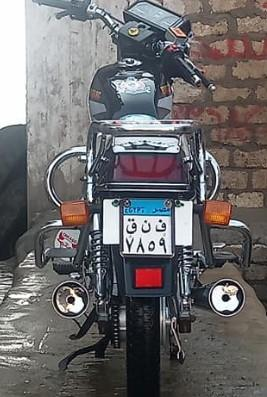License Plate: (122, 197, 174, 259)
